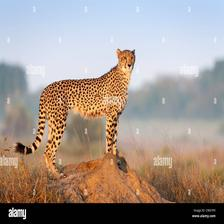Cheetah: (13, 48, 136, 178)
